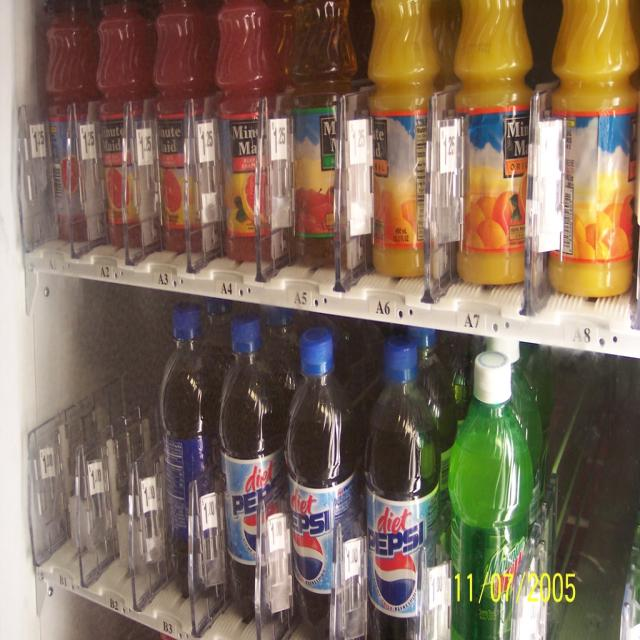pepsi: (373, 550, 418, 607), (290, 530, 325, 582)
